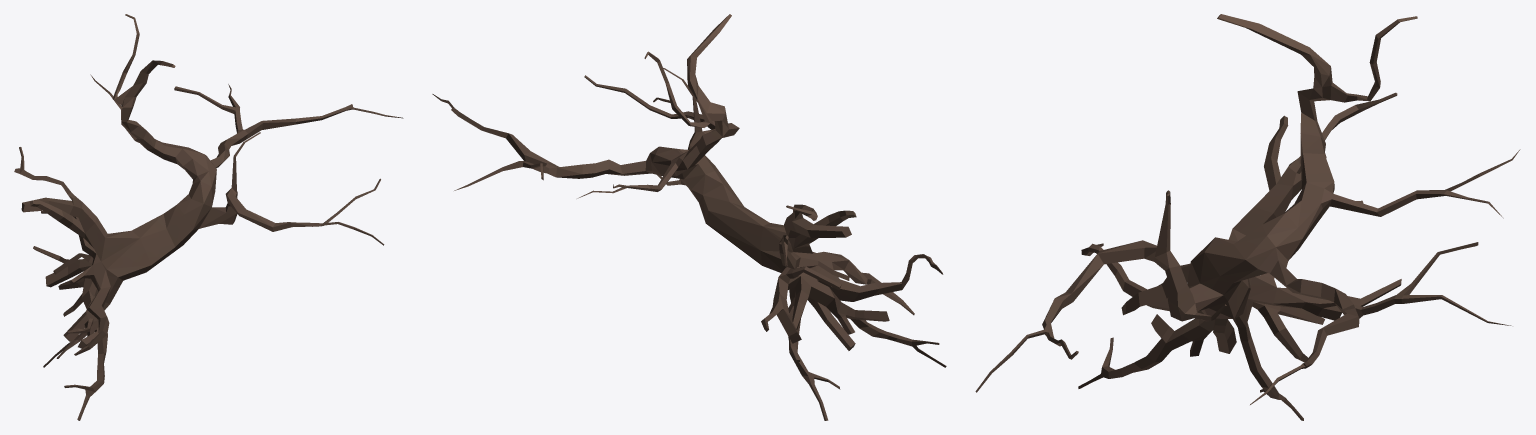
Rendered from bonsai_big_koryaga.fbx.
The picture shows the model from 3 angles, left to right: view 1: azimuth 30°, elevation 25°; view 2: azimuth 150°, elevation 25°; view 3: azimuth 270°, elevation 25°; orthographic projection. The views are drawn at different scales.
Parts seen in each view (by area): view 1: bonsai_big_koryaga; view 2: bonsai_big_koryaga; view 3: bonsai_big_koryaga.
Part boxes in pixels (box(x1,y1,x2,y2)): bonsai_big_koryaga: box(14, 14, 403, 420); bonsai_big_koryaga: box(432, 14, 946, 420); bonsai_big_koryaga: box(975, 14, 1520, 420).
Bounding box in the file's own units: 5.54 × 4.17 × 4.14.
